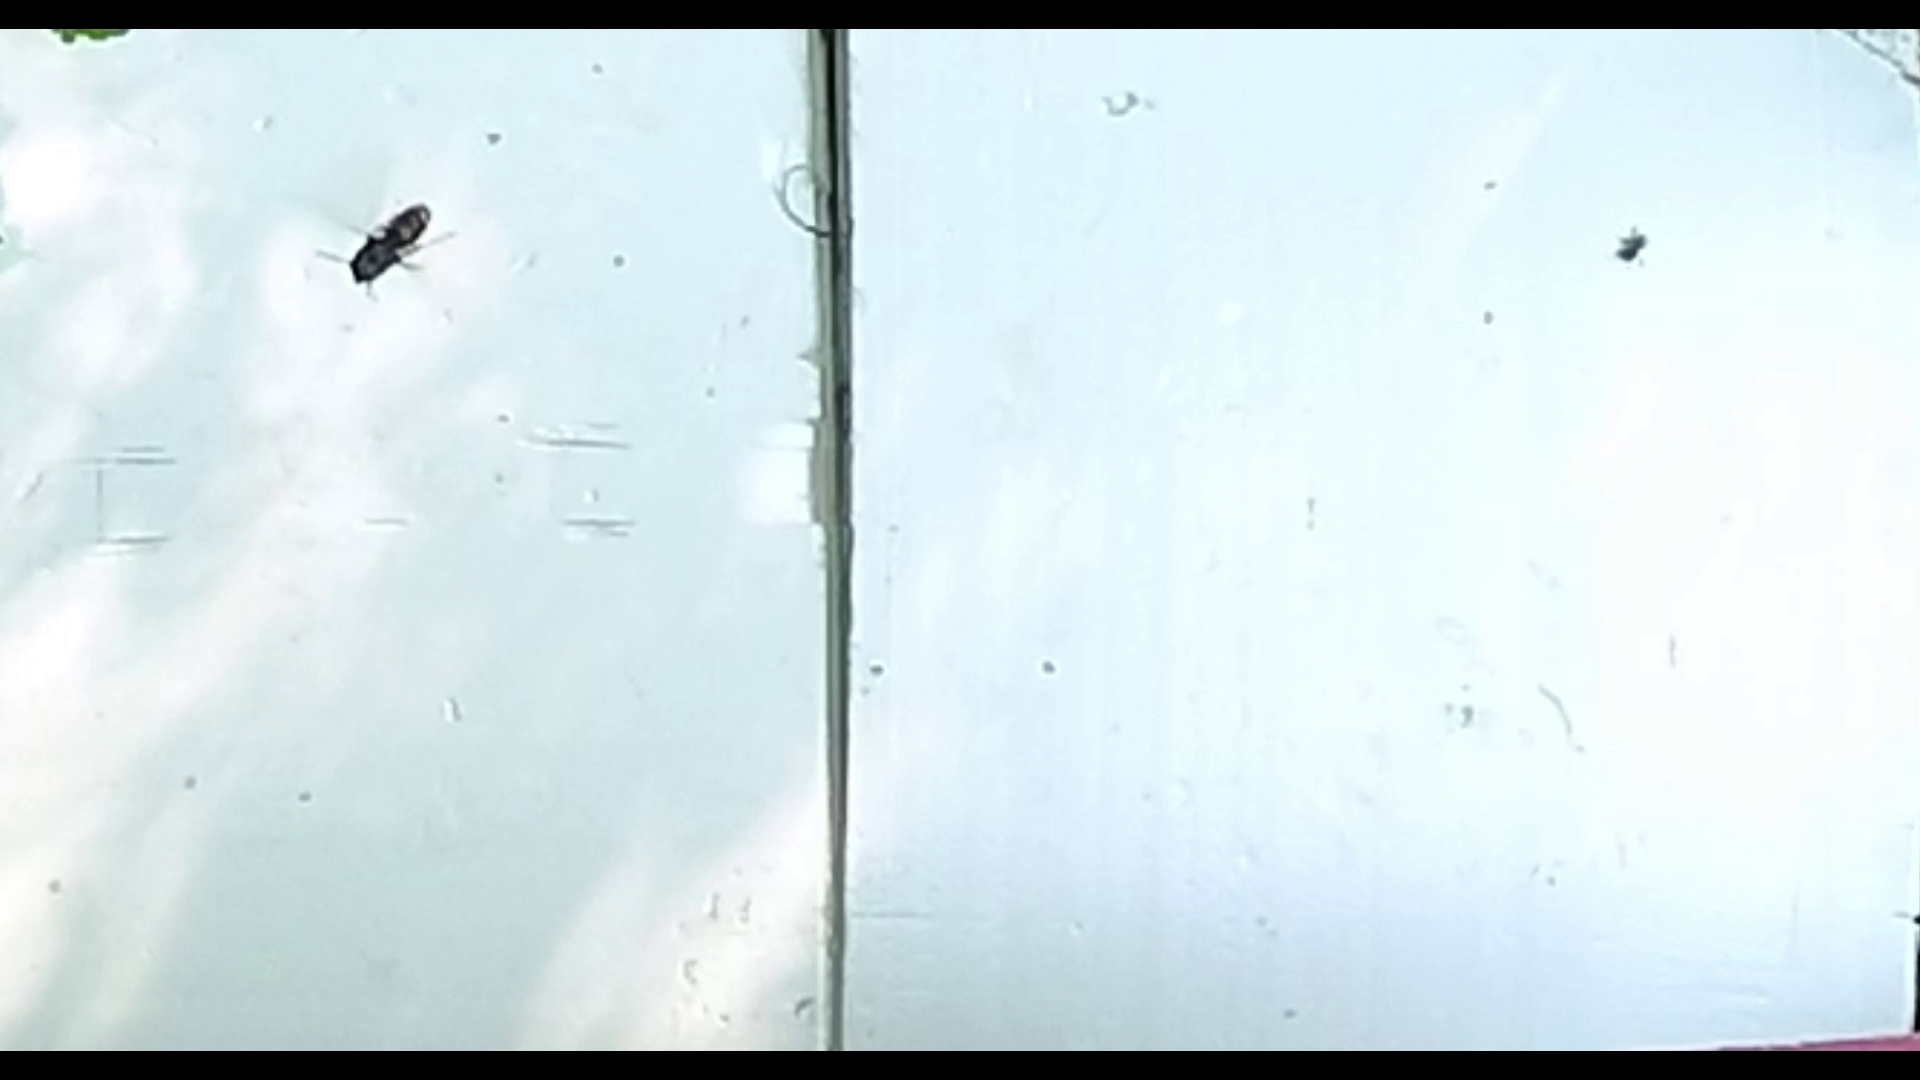Asian_hornets: (301, 157, 473, 314)
